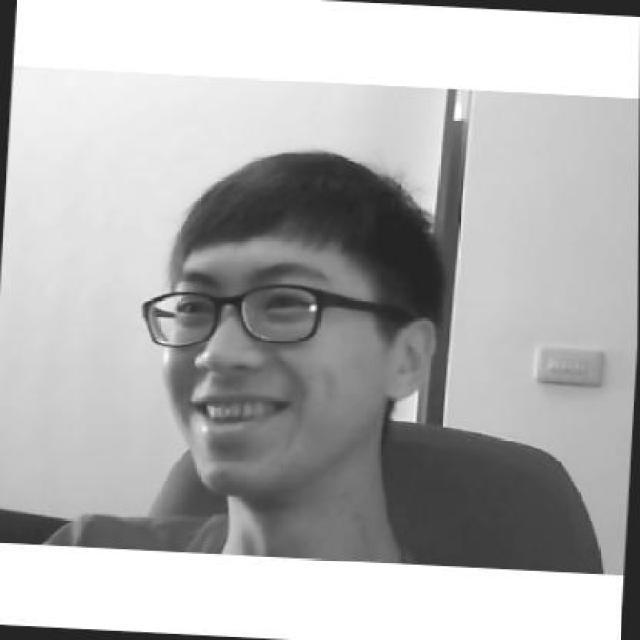attentif: (130, 141, 448, 505)
